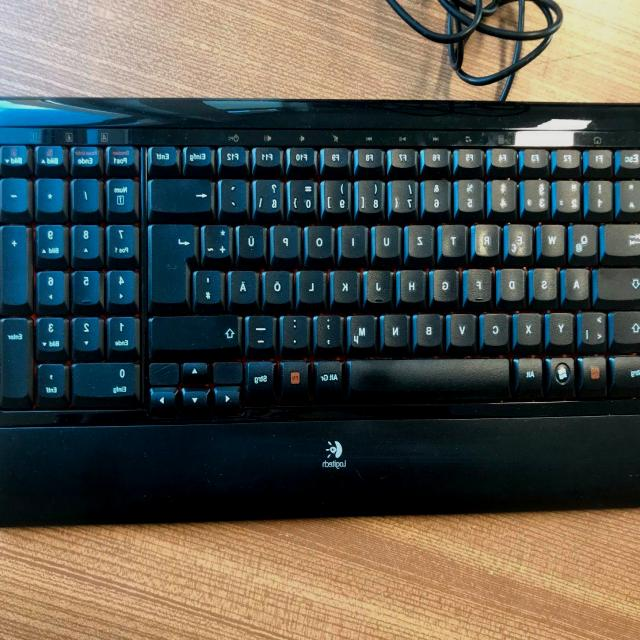0: (290, 176, 319, 215)
1: (589, 177, 615, 211)
2: (557, 178, 583, 212)
3: (525, 176, 553, 212)
4: (492, 176, 518, 211)
5: (458, 175, 486, 211)
6: (424, 176, 452, 212)
7: (392, 177, 420, 213)
8: (359, 176, 387, 214)
9: (325, 177, 353, 215)
a: (566, 265, 592, 300)
accent: (223, 175, 250, 211)
ae: (231, 267, 259, 304)
alt-left: (517, 355, 545, 397)
altgr-right: (317, 358, 345, 398)
b: (417, 310, 445, 346)
c: (483, 310, 511, 345)
caret: (621, 177, 640, 211)
comma: (317, 312, 344, 348)
d: (501, 265, 528, 301)
del: (151, 175, 216, 211)
e: (509, 220, 536, 256)
enter: (151, 220, 200, 304)
f: (468, 265, 494, 301)
g: (434, 266, 461, 302)
h: (401, 266, 428, 302)
hash: (197, 266, 225, 304)
i: (343, 221, 369, 257)
j: (368, 267, 395, 303)
k: (333, 266, 361, 302)
keyboard: (0, 97, 640, 427)
l: (300, 267, 328, 303)
less: (582, 308, 609, 346)
m: (351, 311, 379, 347)
minus: (249, 312, 278, 350)
n: (385, 311, 412, 347)
o: (308, 222, 336, 258)
oe: (266, 267, 294, 303)
p: (274, 221, 302, 257)
plus: (205, 221, 233, 260)
point: (283, 312, 311, 348)
q: (573, 220, 600, 256)
r: (476, 220, 502, 256)
s: (534, 265, 560, 301)
shift-left: (614, 308, 640, 344)
shift-lock: (598, 264, 640, 300)
shift-right: (152, 311, 244, 349)
space: (350, 354, 513, 396)
ss: (256, 175, 286, 215)
strg-left: (613, 353, 640, 396)
strg-right: (248, 357, 278, 396)
t: (442, 220, 468, 256)
tab: (605, 221, 640, 256)
u: (375, 221, 403, 257)
ue: (240, 222, 268, 258)
v: (450, 309, 478, 345)
w: (542, 220, 568, 256)
x: (518, 309, 544, 345)
y: (550, 309, 576, 345)
z: (408, 221, 436, 256)
